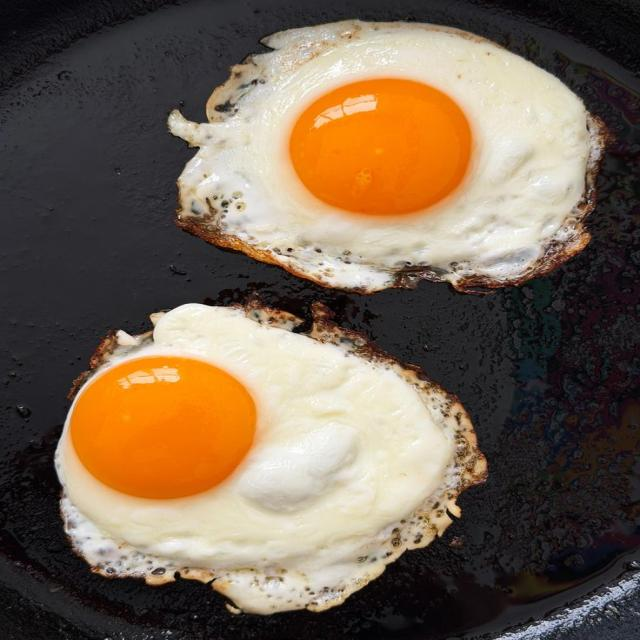fryed egg: (57, 303, 486, 613), (169, 21, 606, 292)
